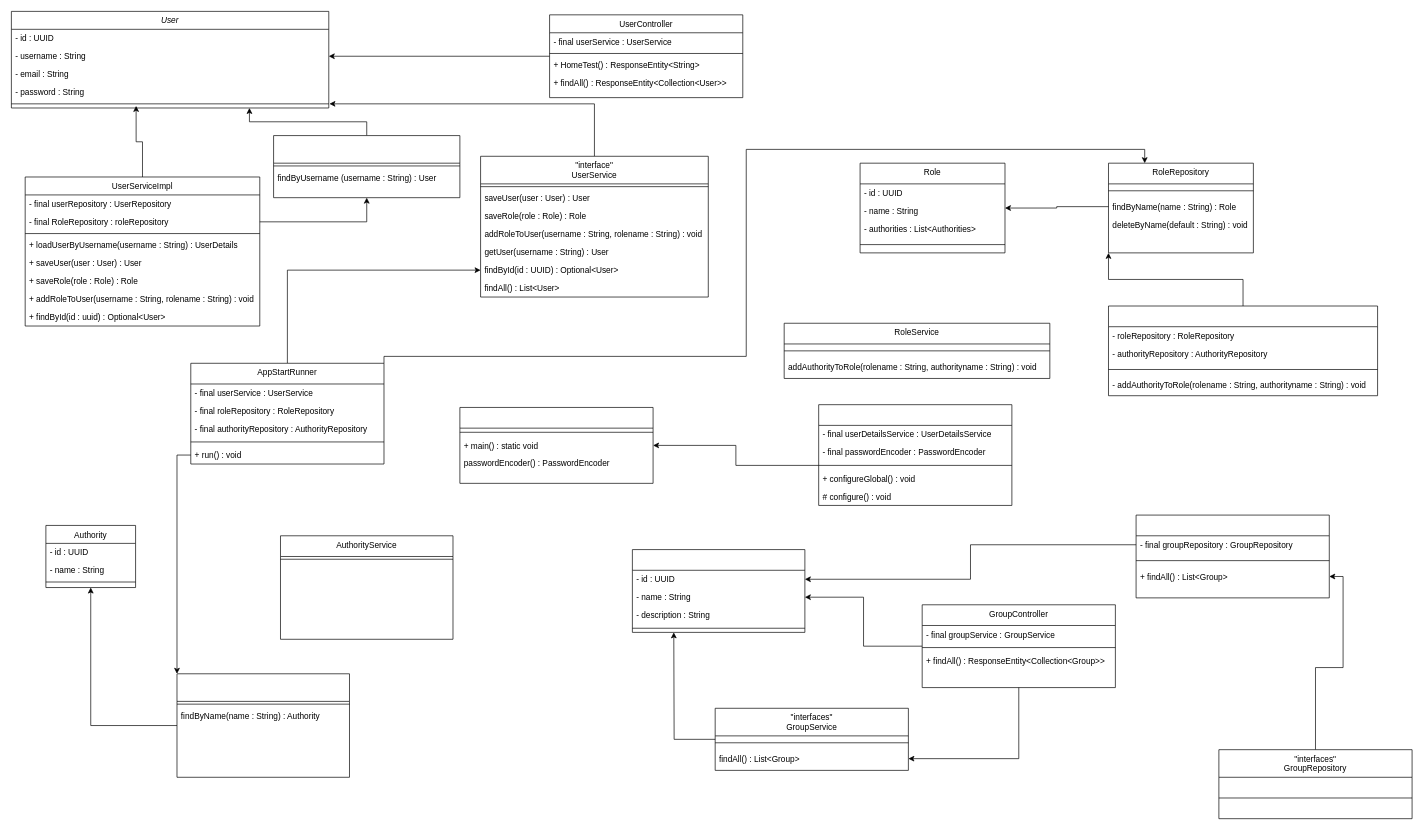
The diagram is 1423 pixels wide and 830 high, and some of its shapes have lost their labels. Each missing label, with the box of its shape:
"interface" AuthorityRepository: (176, 673, 349, 777)
"interface" UserRepository: (273, 135, 460, 198)
DemoApplication: (459, 407, 653, 483)
Group: (632, 549, 805, 632)
GroupServiceImpl: (1135, 514, 1329, 598)
RoleServiceImpl: (1108, 305, 1378, 396)
SecurityConfig: (818, 404, 1012, 505)
